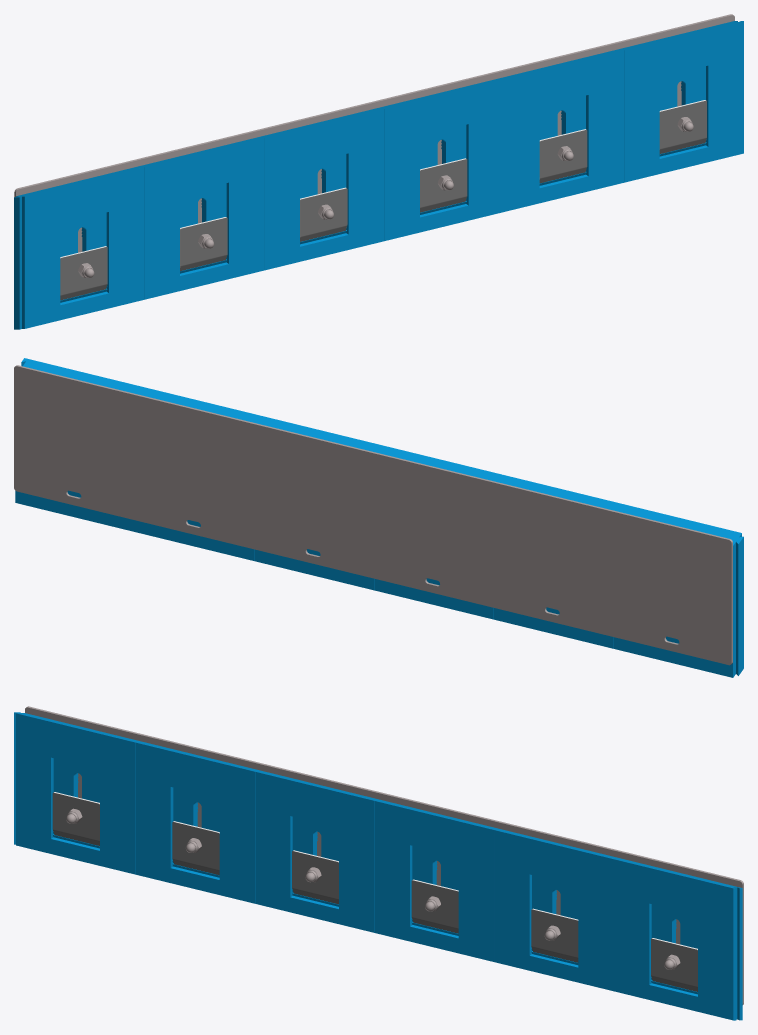
The picture shows the model from 3 angles, top to bottom: view 1: azimuth 30°, elevation 25°; view 2: azimuth 150°, elevation 25°; view 3: azimuth 330°, elevation 25°; orthographic projection.
Visible parts, largest first — view 1: 3MFMeshParent_353, 3MFMeshParent_357, 3MFMeshParent_354, 3MFMeshParent_356, 3MFMeshParent_346, 3MFMeshParent_347, 3MFMeshParent_352, 3MFMeshParent_355, 3MFMeshParent_358, 3MFMeshParent_345, 3MFMeshParent_344, 3MFMeshParent_351 (+1 smaller); view 2: 3MFMeshParent_352, 3MFMeshParent_353, 3MFMeshParent_347, 3MFMeshParent_357, 3MFMeshParent_354, 3MFMeshParent_356, 3MFMeshParent_346; view 3: 3MFMeshParent_347, 3MFMeshParent_353, 3MFMeshParent_356, 3MFMeshParent_346, 3MFMeshParent_357, 3MFMeshParent_354, 3MFMeshParent_352, 3MFMeshParent_355, 3MFMeshParent_351, 3MFMeshParent_344, 3MFMeshParent_345, 3MFMeshParent_358 (+1 smaller).
Part boxes in pixels (box(x1,y1,x2,y2)): 3MFMeshParent_353: box(14, 167, 144, 329); 3MFMeshParent_357: box(374, 79, 504, 240); 3MFMeshParent_354: box(255, 108, 384, 270); 3MFMeshParent_356: box(135, 138, 264, 299); 3MFMeshParent_346: box(494, 50, 623, 211); 3MFMeshParent_347: box(614, 21, 743, 182); 3MFMeshParent_352: box(14, 14, 734, 252); 3MFMeshParent_355: box(539, 129, 587, 183); 3MFMeshParent_358: box(659, 100, 706, 153); 3MFMeshParent_345: box(180, 217, 227, 271); 3MFMeshParent_344: box(420, 158, 467, 212); 3MFMeshParent_351: box(60, 246, 107, 300); 3MFMeshParent_352: box(14, 365, 732, 665); 3MFMeshParent_353: box(613, 504, 743, 677); 3MFMeshParent_347: box(15, 358, 145, 531); 3MFMeshParent_357: box(254, 416, 384, 590); 3MFMeshParent_354: box(374, 445, 504, 619); 3MFMeshParent_356: box(494, 475, 623, 648); 3MFMeshParent_346: box(135, 387, 264, 560); 3MFMeshParent_347: box(613, 858, 742, 1020); 3MFMeshParent_353: box(14, 712, 143, 874); 3MFMeshParent_356: box(135, 741, 262, 903); 3MFMeshParent_346: box(493, 829, 621, 991); 3MFMeshParent_357: box(374, 799, 502, 961); 3MFMeshParent_354: box(253, 770, 382, 932); 3MFMeshParent_352: box(25, 706, 743, 1004); 3MFMeshParent_355: box(531, 908, 578, 962); 3MFMeshParent_351: box(52, 792, 99, 845); 3MFMeshParent_344: box(411, 879, 458, 933); 3MFMeshParent_345: box(172, 821, 219, 875); 3MFMeshParent_358: box(651, 938, 697, 991).
Size of the model in its own units: 1.21 by 0.221 by 0.0505.
